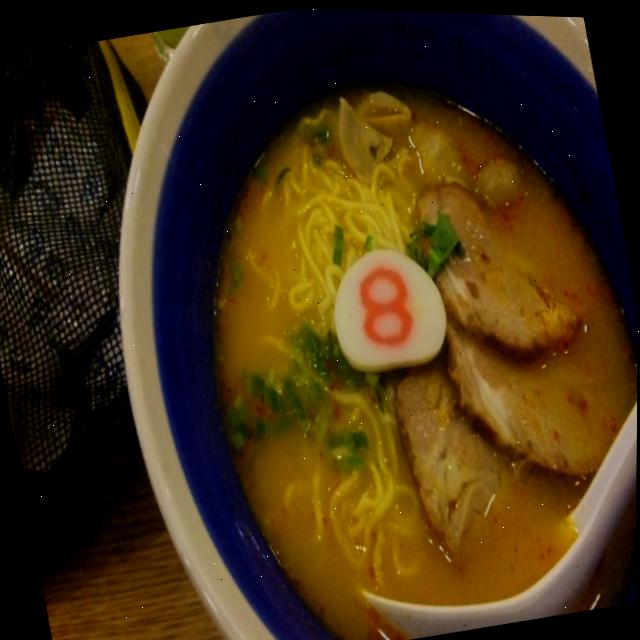面条主食: (61, 2, 640, 640)
